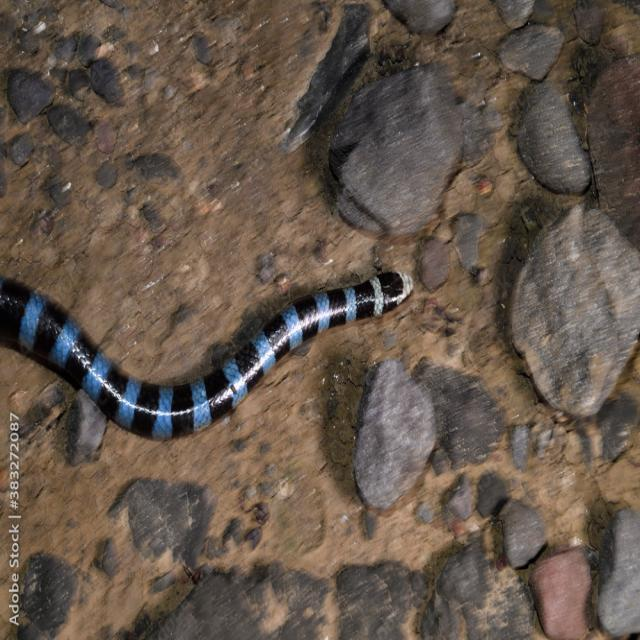Snake: (0, 158, 425, 442)
